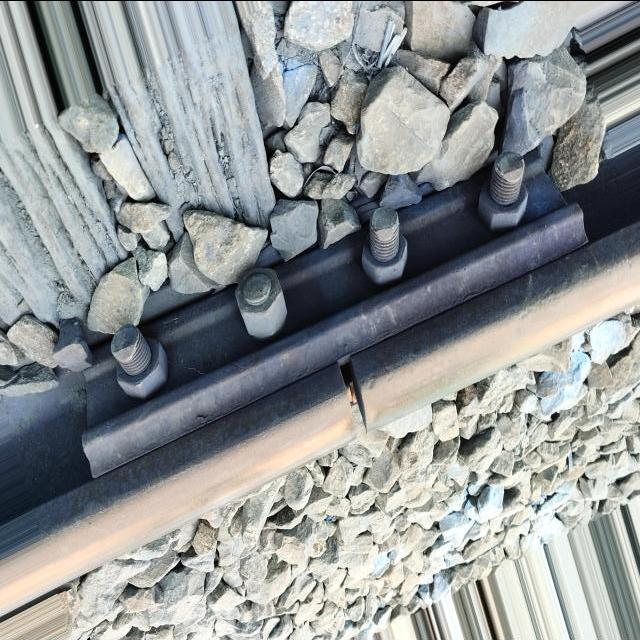broken_rail_medium: (517, 284, 573, 321), (581, 275, 593, 288), (366, 377, 376, 390), (624, 259, 634, 269), (385, 367, 391, 383), (605, 266, 612, 277)
